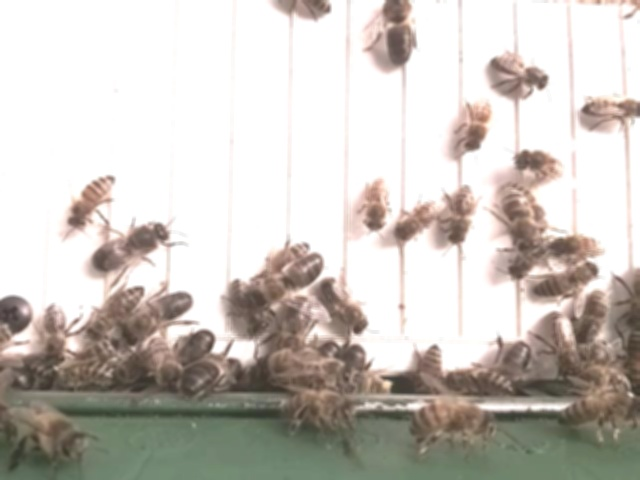Drone: (90, 218, 173, 277), (257, 248, 328, 306), (126, 285, 198, 341), (381, 0, 420, 70), (172, 325, 218, 372)
Worker: (88, 279, 146, 339), (66, 169, 121, 231), (319, 271, 370, 337), (530, 259, 603, 303), (500, 183, 542, 257), (489, 48, 555, 91), (390, 198, 444, 247), (227, 274, 266, 340), (547, 306, 580, 380), (510, 145, 570, 185), (461, 92, 498, 155), (578, 89, 640, 126), (445, 180, 478, 248), (39, 295, 70, 367), (576, 286, 612, 346), (537, 230, 611, 259), (362, 171, 392, 240)
